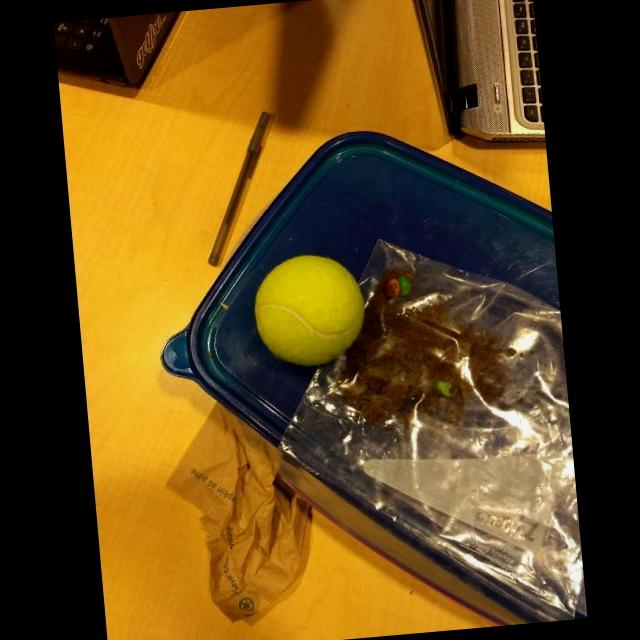tennis-ball: (249, 248, 371, 372)
